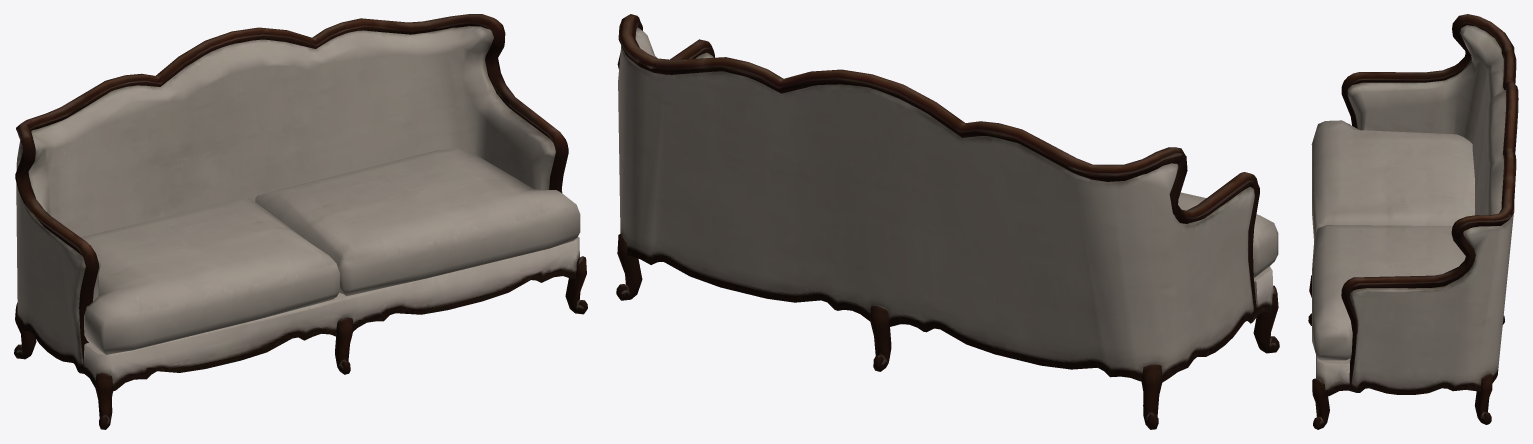
File: Sofa_01.glb
3 views of the same model, side by side, from view 1: azimuth 30°, elevation 25°; view 2: azimuth 150°, elevation 25°; view 3: azimuth 270°, elevation 25° (orthographic). The views are drawn at different scales.
Parts seen in each view (by area): view 1: Sofa_01; view 2: Sofa_01; view 3: Sofa_01.
Boxes of the visible parts, x1,y1,x2,y2 form: Sofa_01: (14, 14, 587, 429); Sofa_01: (616, 14, 1279, 429); Sofa_01: (1308, 14, 1518, 429).
Bounding box in the file's own units: 1.57 × 0.7954 × 0.658.
Materials: 1 (1 with a texture image).
